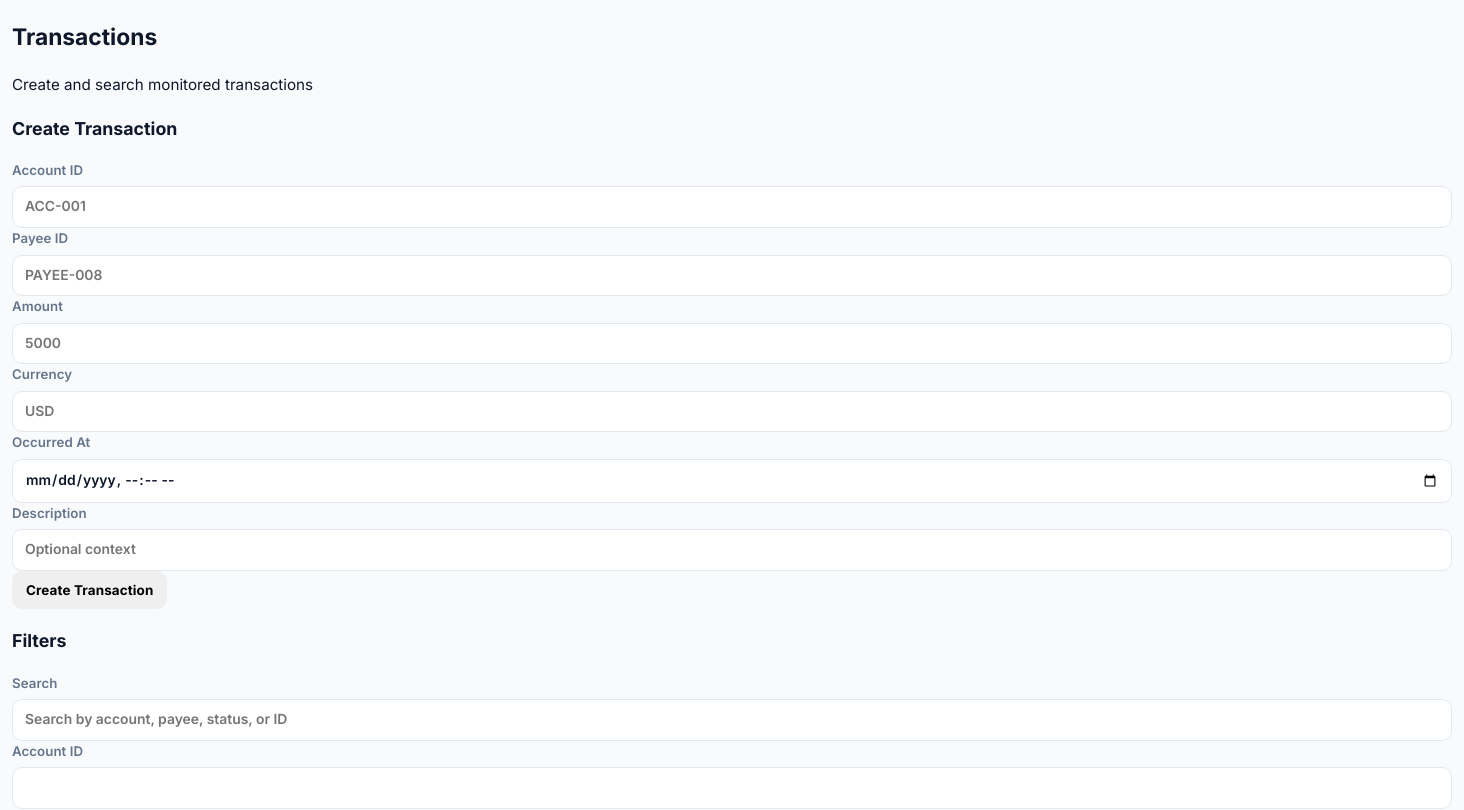
Test: TransactionsPage › clears the create form, shows the new transaction first, and scrolls to it after create
Type "ACC-NEW" into the 1st field labelled "Account ID" at (732,207), box [12,186,1452,228]
Type "PAYEE-NEW" into the field labelled "Payee ID" at (732,275), box [12,254,1452,296]
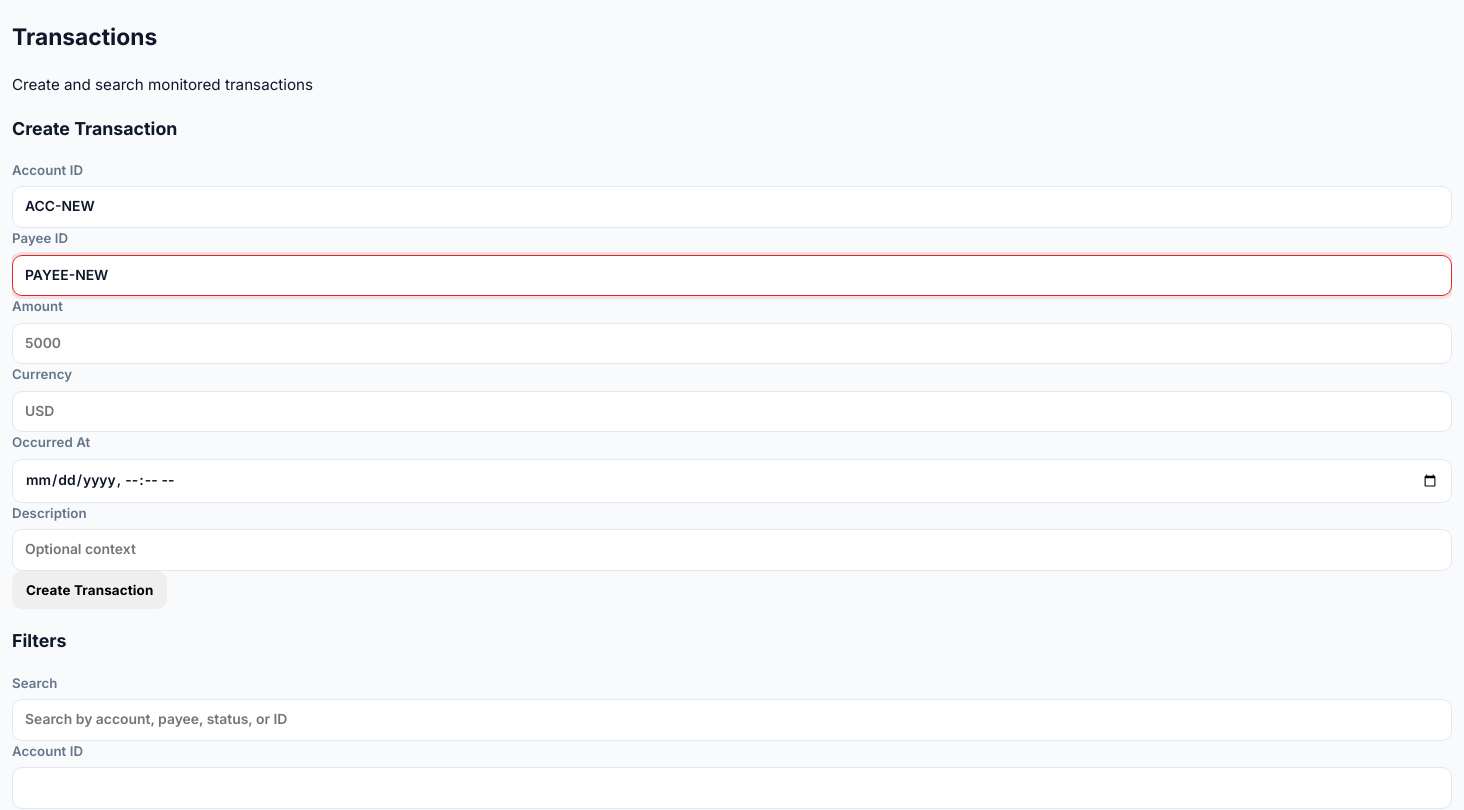
Type "500" into the number field labelled "Amount" at (732,343), box [12,323,1452,364]
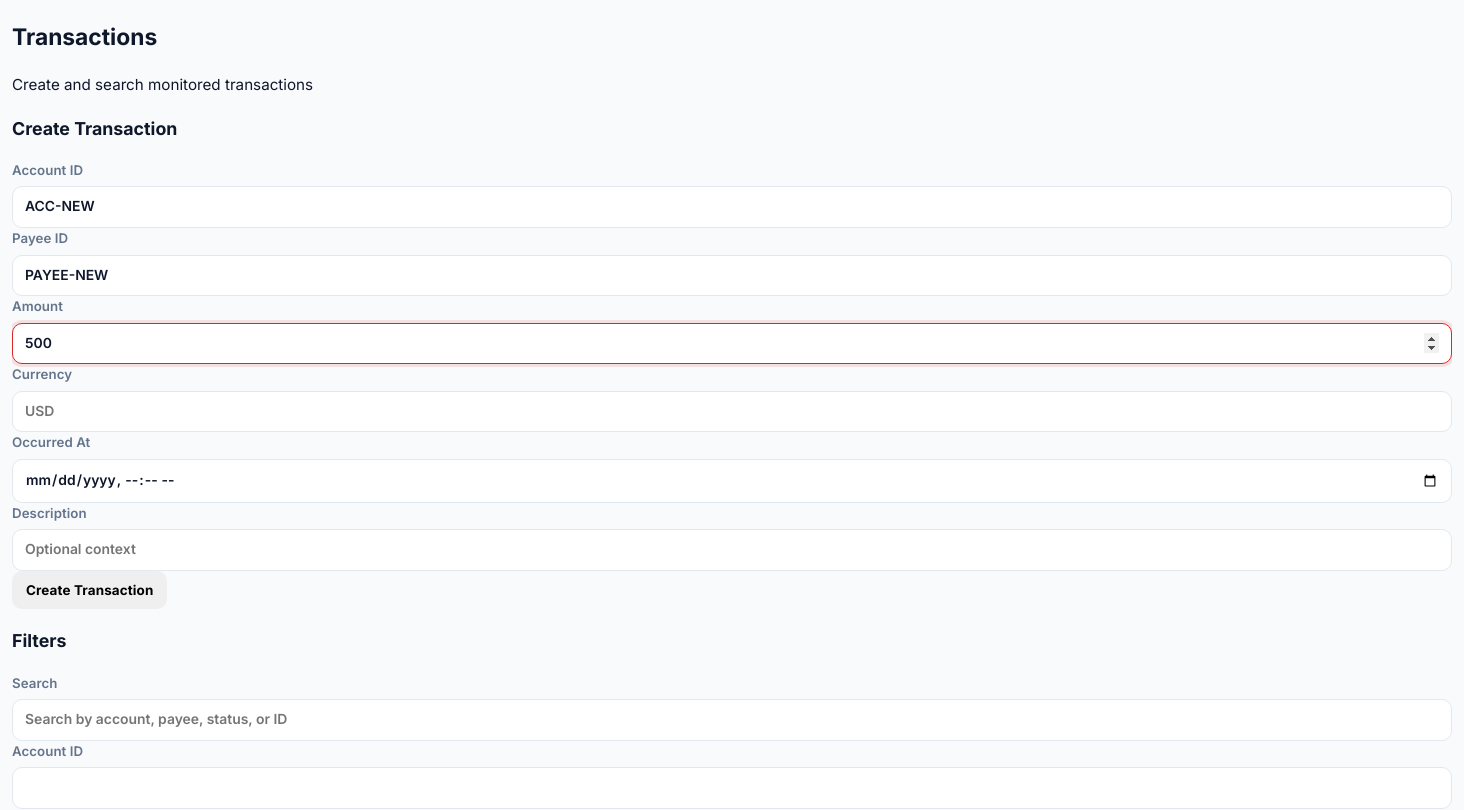
Type "EUR" into the field labelled "Currency" at (732,412), box [12,391,1452,432]
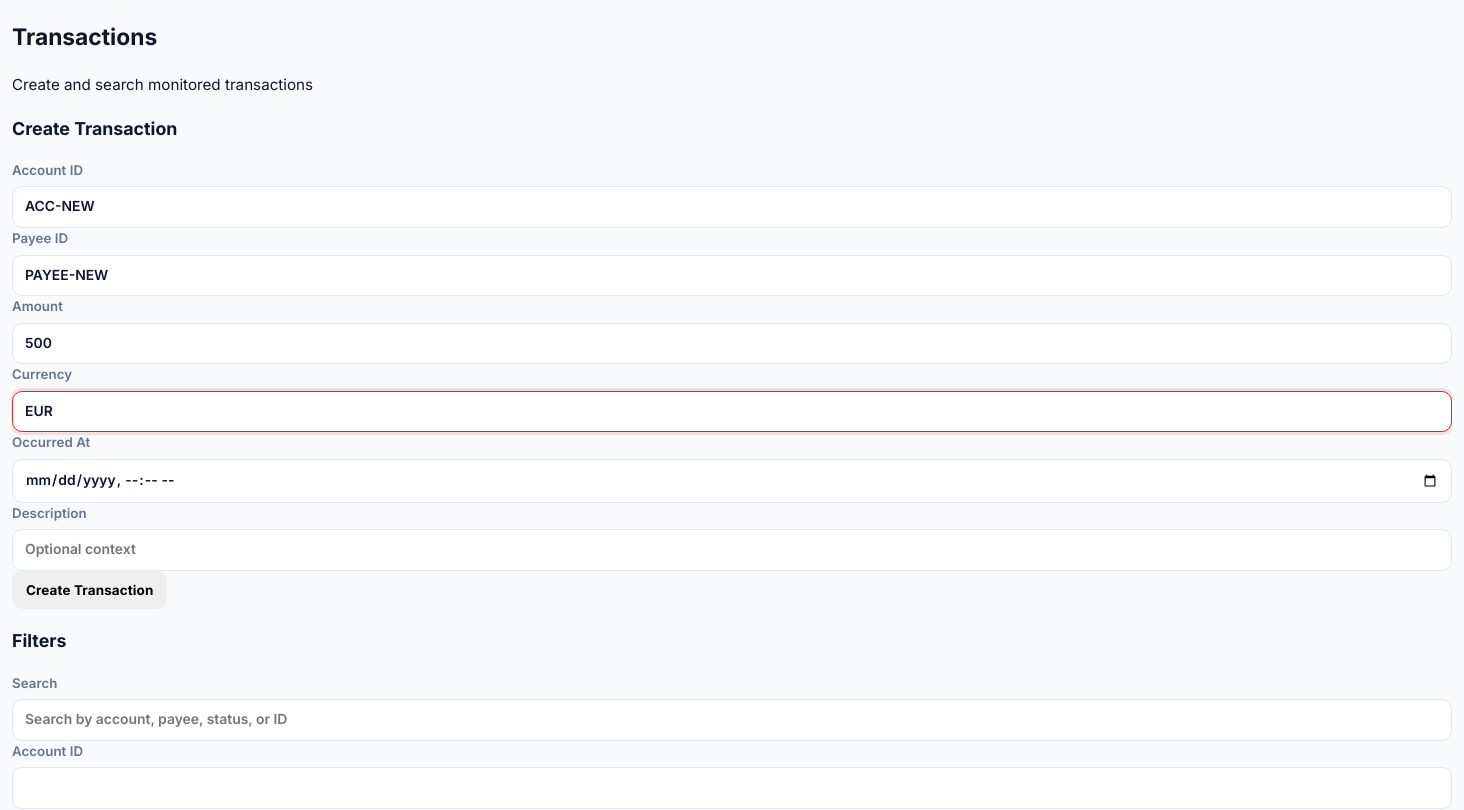
Type "2026-08-04T12:00" into the field labelled "Occurred At" at (732,481), box [12,459,1452,502]
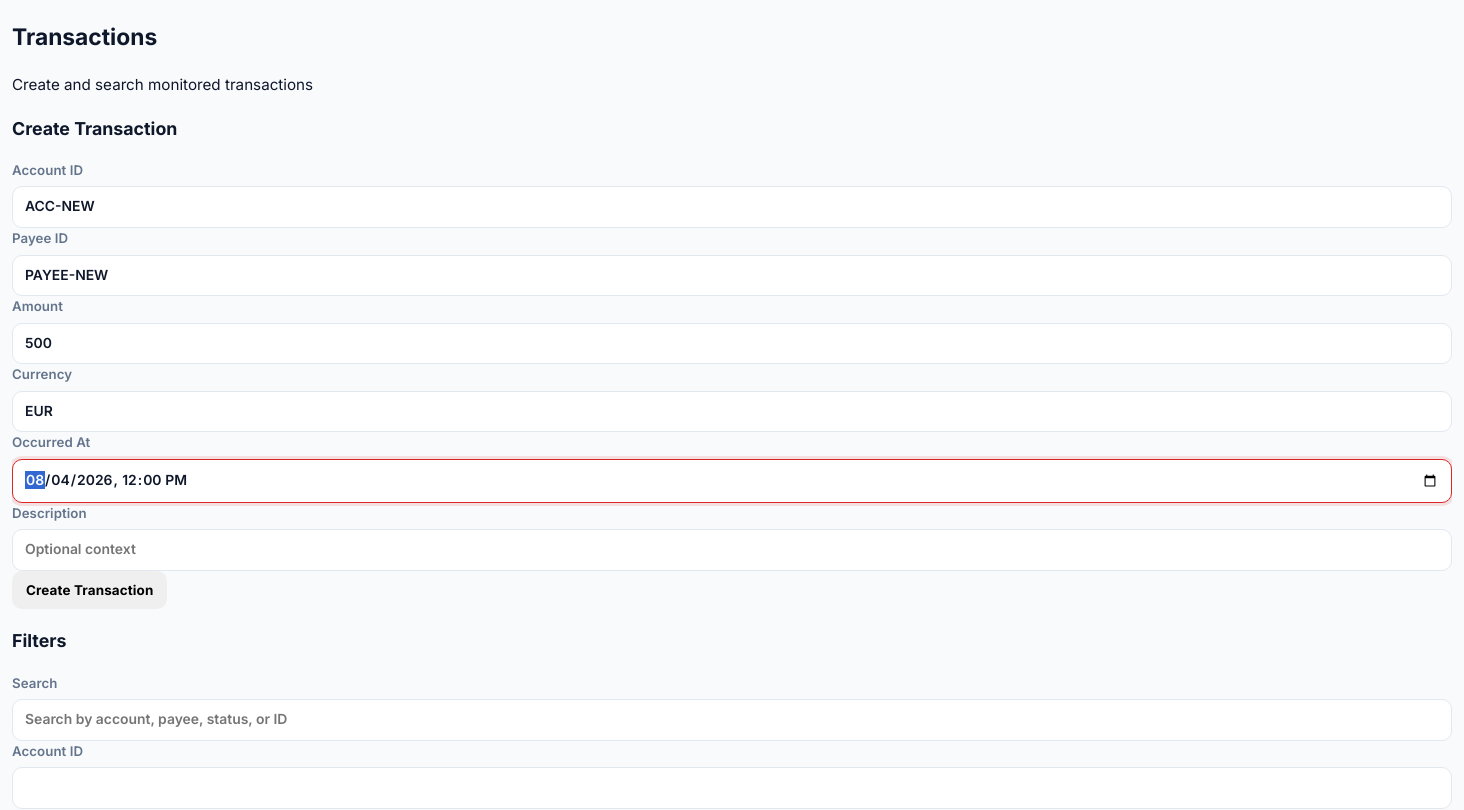
Type "Freshly added transaction" into the field labelled "Description" at (732,550), box [12,529,1452,571]
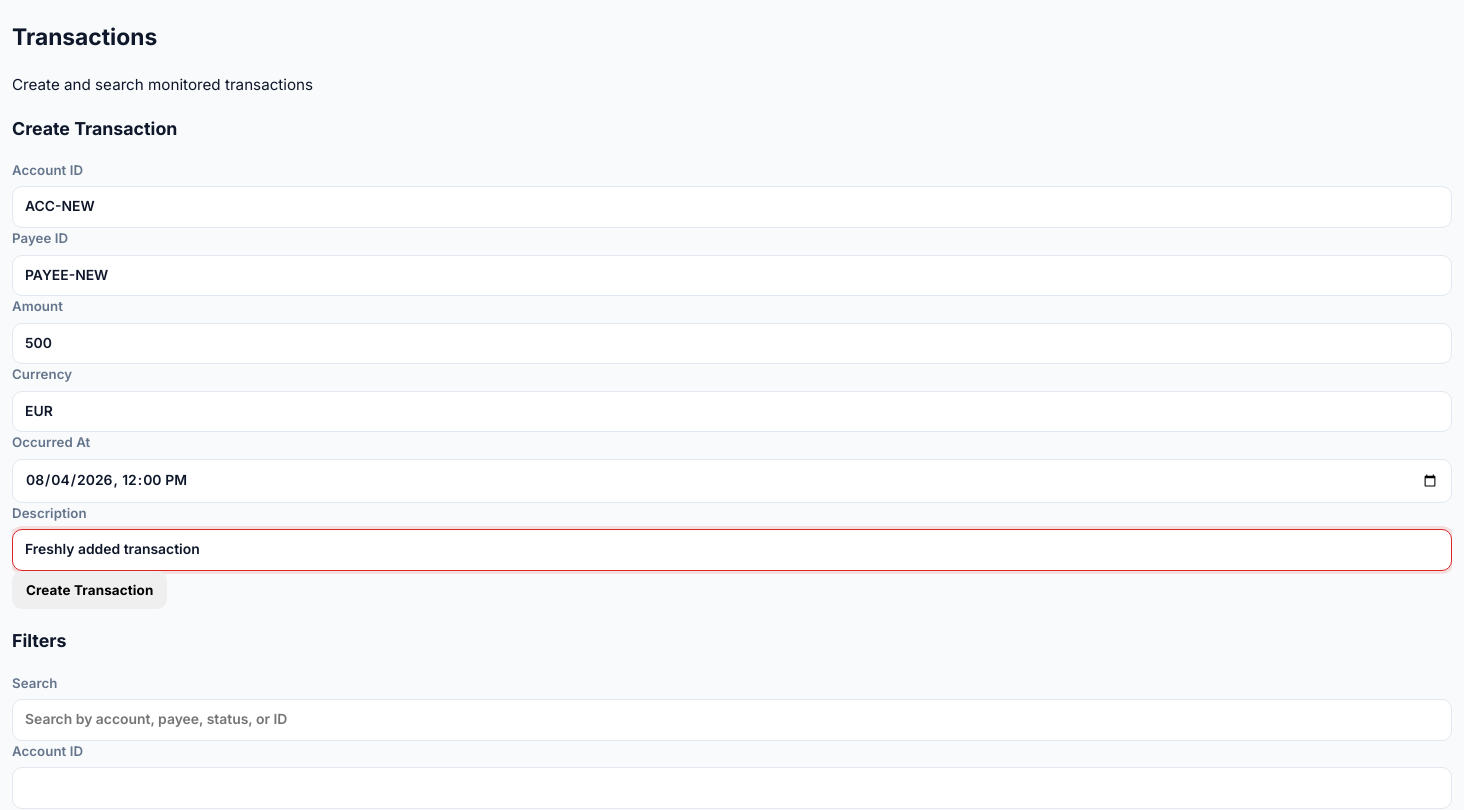
Click the button "Create Transaction" at (90,590), box [12,571,168,609]
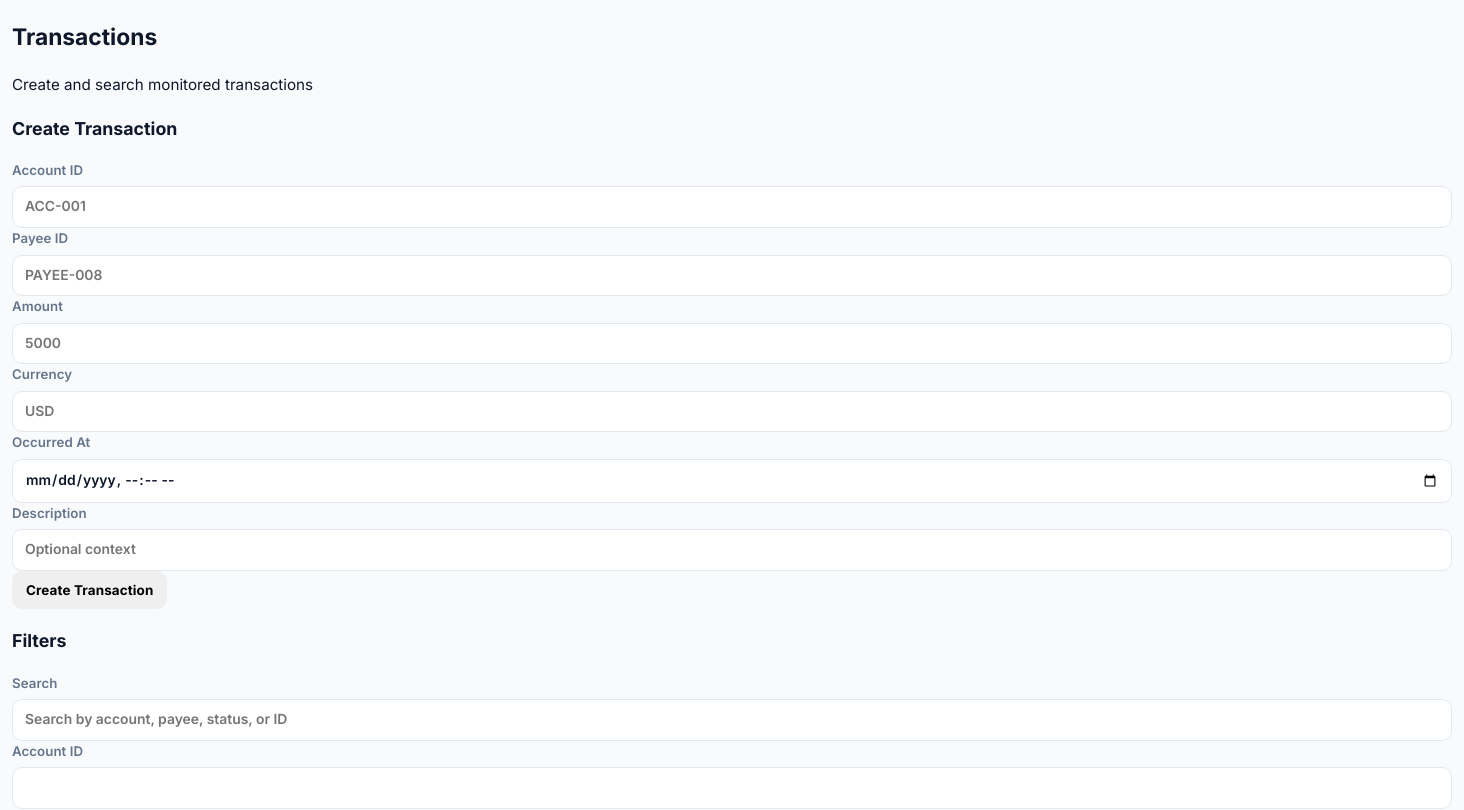
Expected: the 1st field labelled "Account ID" is empty, [12,186,1452,228]
Expected: the field labelled "Payee ID" is empty, [12,254,1452,296]
Expected: the number field labelled "Amount" is not empty, [12,323,1452,364]
